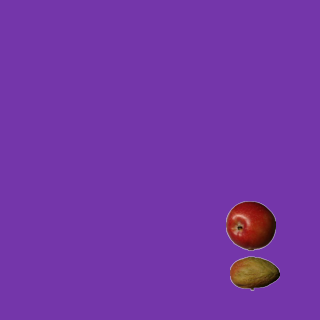Apple Braeburn: (225, 200, 275, 250)
Papaya: (229, 248, 279, 298)
